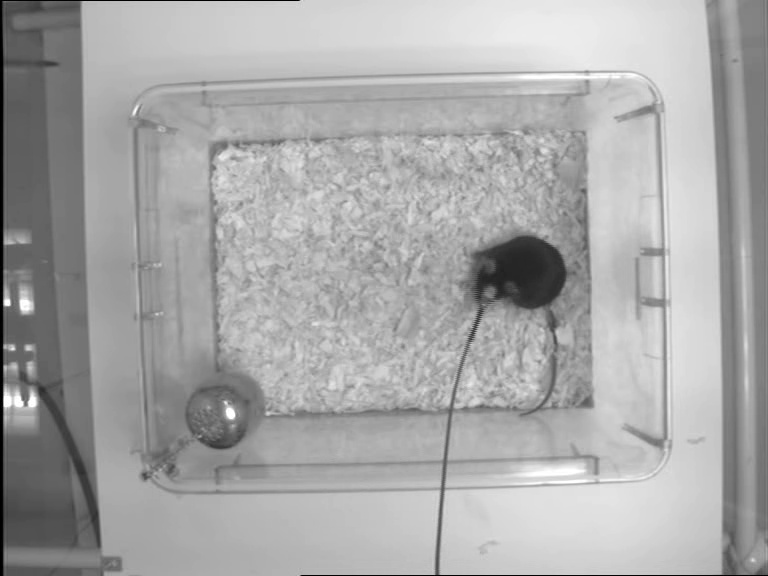mice: (470, 234, 569, 414)
